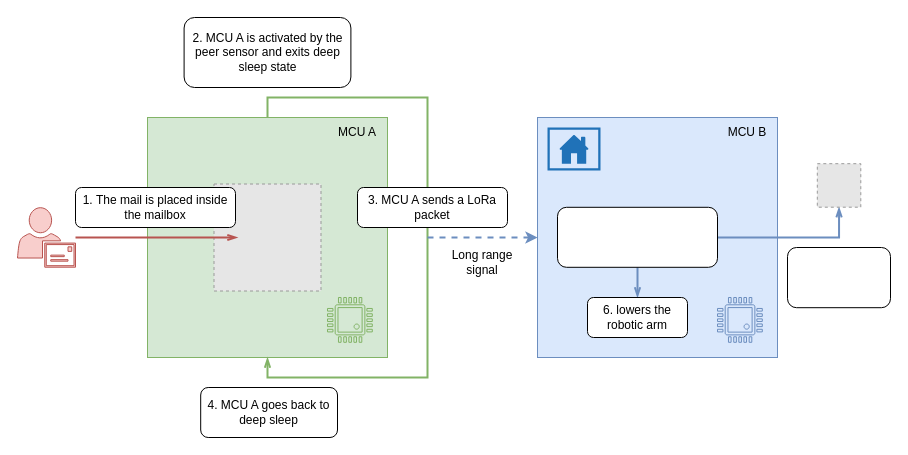
This 908x455 diagram has some shape labels left out. Grey dashed boxes stand in for pictures. The centre of each missing label's shape, as x and y in pixels:
"5. MCU B receives the packet and:" goes at point (637, 236).
"7. Sends a message to the telegram channel" goes at point (838, 277).
